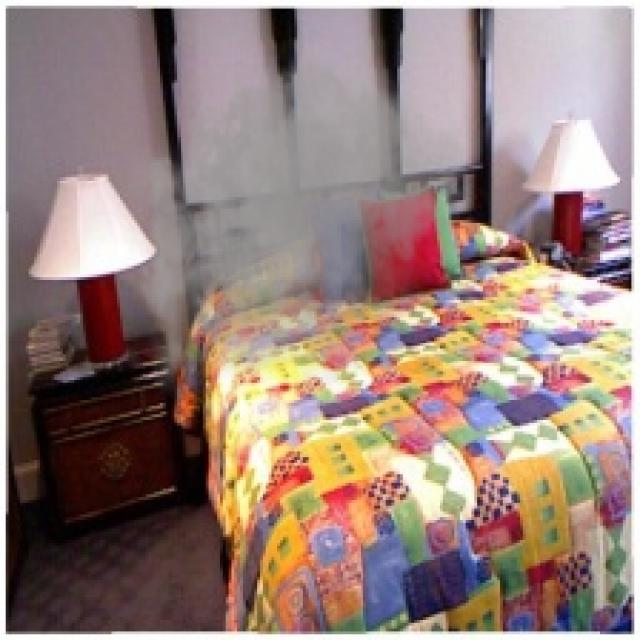smoke: (123, 31, 480, 406)
